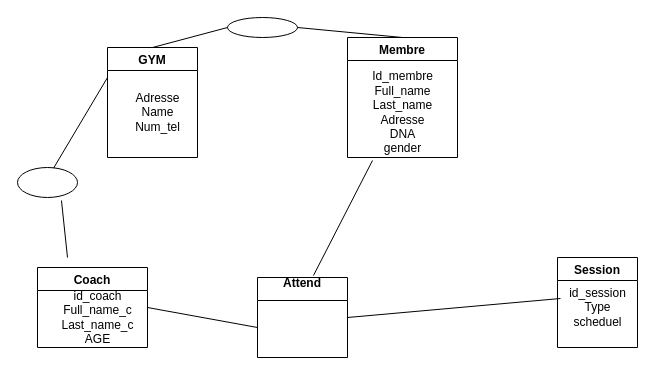
This 655x375 diagram has some shape labels left out. Each missing label, with the centre of its shape:
"have" goes at (47,182).
"register" goes at (262,27).
